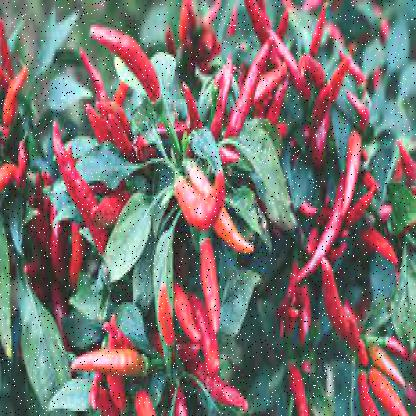chilli: (46, 123, 112, 233), (220, 32, 275, 130), (170, 158, 230, 234), (85, 23, 162, 80), (190, 244, 233, 336), (310, 259, 356, 335), (337, 128, 361, 222), (71, 349, 147, 375), (105, 112, 136, 161)
